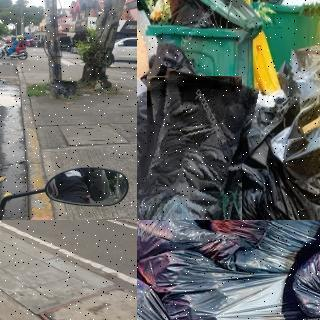Garbage: (138, 71, 250, 220), (137, 242, 299, 320), (256, 106, 320, 220), (235, 101, 271, 220), (278, 40, 320, 132), (137, 220, 241, 255), (137, 265, 193, 320), (49, 80, 78, 100)
